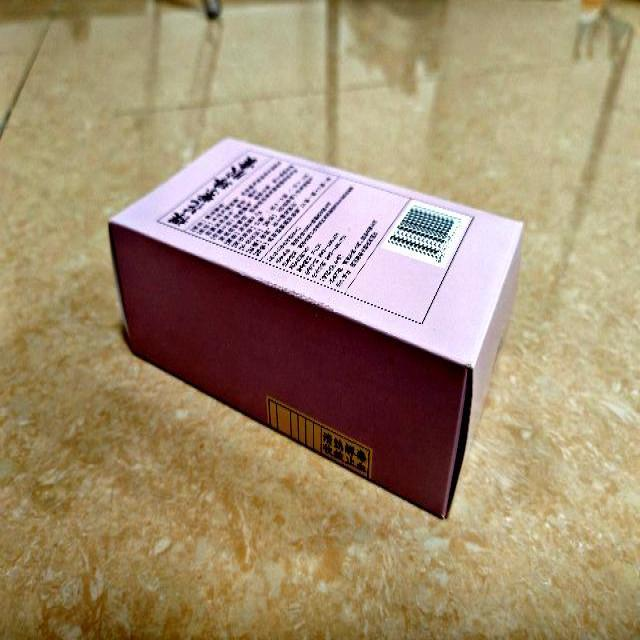box: (106, 137, 524, 519)
